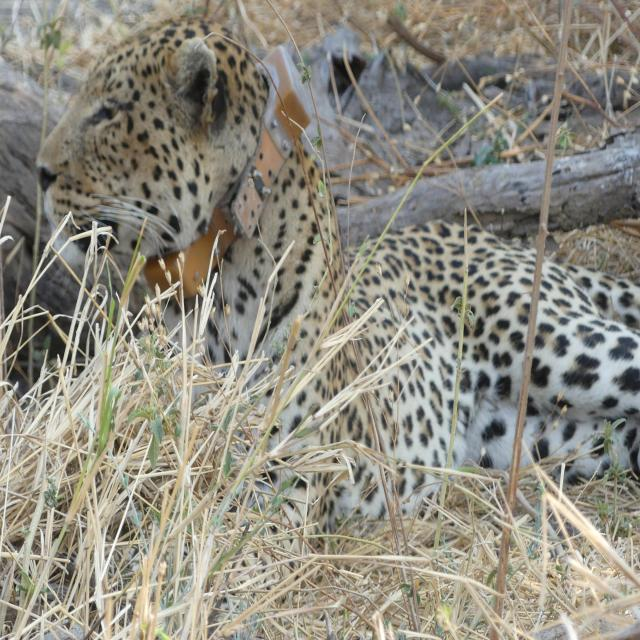Leopard: (31, 24, 639, 618)
